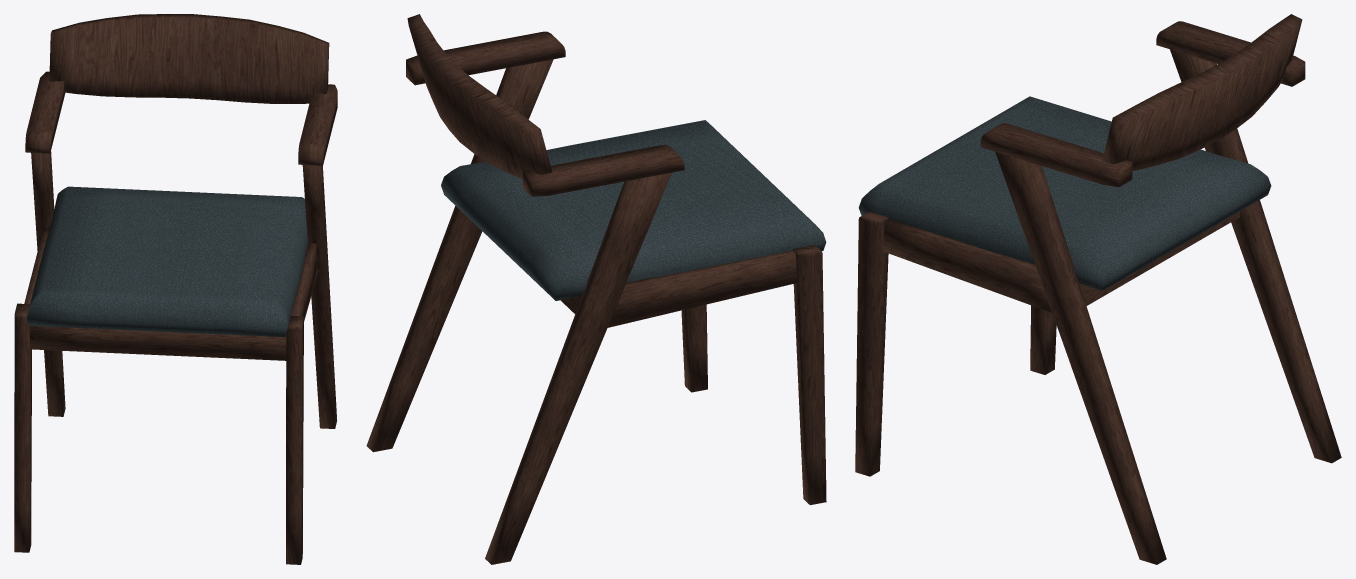
The model's file is chair_midcentury.glb.
3 views of the same model, side by side, from view 1: azimuth 30°, elevation 25°; view 2: azimuth 150°, elevation 25°; view 3: azimuth 270°, elevation 25° (orthographic). The views are drawn at different scales.
Parts seen in each view (by area): view 1: Chair Cushion_Low, Chair Back_Low, Front Side Rail_Low, Right Back Leg_Low, Right Front Leg_Low, Left Font Leg_Low, Left Back Leg_Low, Right Arm Rest_Low, Left Arm Rest_Low, Right Side Rail_Low, Left Side Rail_Low; view 2: Chair Cushion_Low, Left Back Leg_Low, Right Back Leg_Low, Chair Back_Low, Left Font Leg_Low, Left Side Rail_Low, Left Arm Rest_Low, Right Arm Rest_Low, Right Front Leg_Low; view 3: Chair Cushion_Low, Right Back Leg_Low, Chair Back_Low, Left Back Leg_Low, Right Front Leg_Low, Right Side Rail_Low, Right Arm Rest_Low, Left Arm Rest_Low, Left Font Leg_Low, Back Side Rail_Low.
Boxes of the visible parts, x1=… form: Chair Cushion_Low: x1=26, y1=186, x2=308, y2=337; Chair Back_Low: x1=49, y1=14, x2=329, y2=103; Front Side Rail_Low: x1=30, y1=325, x2=286, y2=360; Right Back Leg_Low: x1=302, y1=165, x2=337, y2=428; Right Front Leg_Low: x1=286, y1=316, x2=303, y2=564; Left Font Leg_Low: x1=14, y1=303, x2=31, y2=552; Left Back Leg_Low: x1=31, y1=151, x2=65, y2=416; Right Arm Rest_Low: x1=298, y1=84, x2=337, y2=165; Left Arm Rest_Low: x1=25, y1=71, x2=65, y2=153; Right Side Rail_Low: x1=291, y1=243, x2=318, y2=321; Left Side Rail_Low: x1=24, y1=231, x2=48, y2=303; Chair Cushion_Low: x1=441, y1=120, x2=826, y2=300; Left Back Leg_Low: x1=485, y1=172, x2=671, y2=564; Right Back Leg_Low: x1=366, y1=59, x2=553, y2=452; Chair Back_Low: x1=407, y1=14, x2=552, y2=178; Left Font Leg_Low: x1=793, y1=245, x2=826, y2=505; Left Side Rail_Low: x1=607, y1=250, x2=797, y2=327; Left Arm Rest_Low: x1=523, y1=145, x2=684, y2=196; Right Arm Rest_Low: x1=406, y1=31, x2=565, y2=85; Right Front Leg_Low: x1=681, y1=304, x2=707, y2=392; Chair Cushion_Low: x1=858, y1=96, x2=1271, y2=290; Right Back Leg_Low: x1=995, y1=151, x2=1166, y2=564; Chair Back_Low: x1=1102, y1=14, x2=1302, y2=170; Left Back Leg_Low: x1=1170, y1=49, x2=1341, y2=463; Right Front Leg_Low: x1=855, y1=211, x2=888, y2=476; Right Side Rail_Low: x1=883, y1=219, x2=1051, y2=312; Right Arm Rest_Low: x1=980, y1=123, x2=1132, y2=186; Left Arm Rest_Low: x1=1156, y1=21, x2=1305, y2=86; Left Font Leg_Low: x1=1030, y1=305, x2=1056, y2=374; Back Side Rail_Low: x1=1079, y1=211, x2=1240, y2=305.
Size of the model in its own units: 1.05 by 1.08 by 1.08.
Materials: 1 (1 with a texture image).
